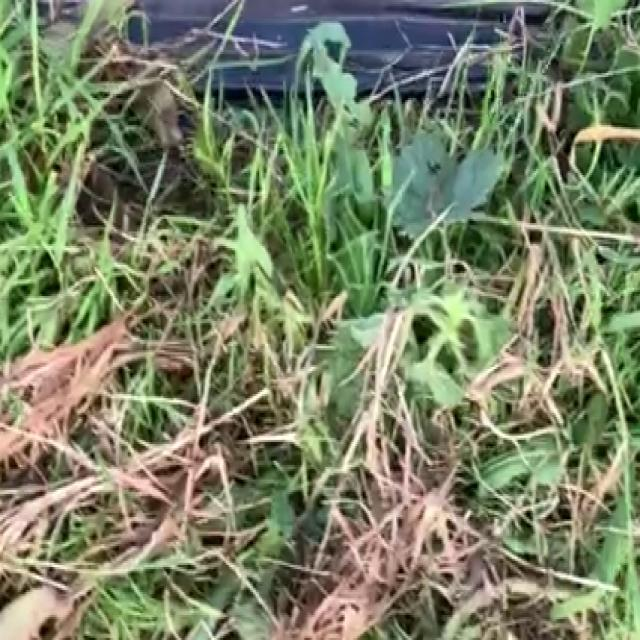organic waste: (240, 44, 522, 348)
